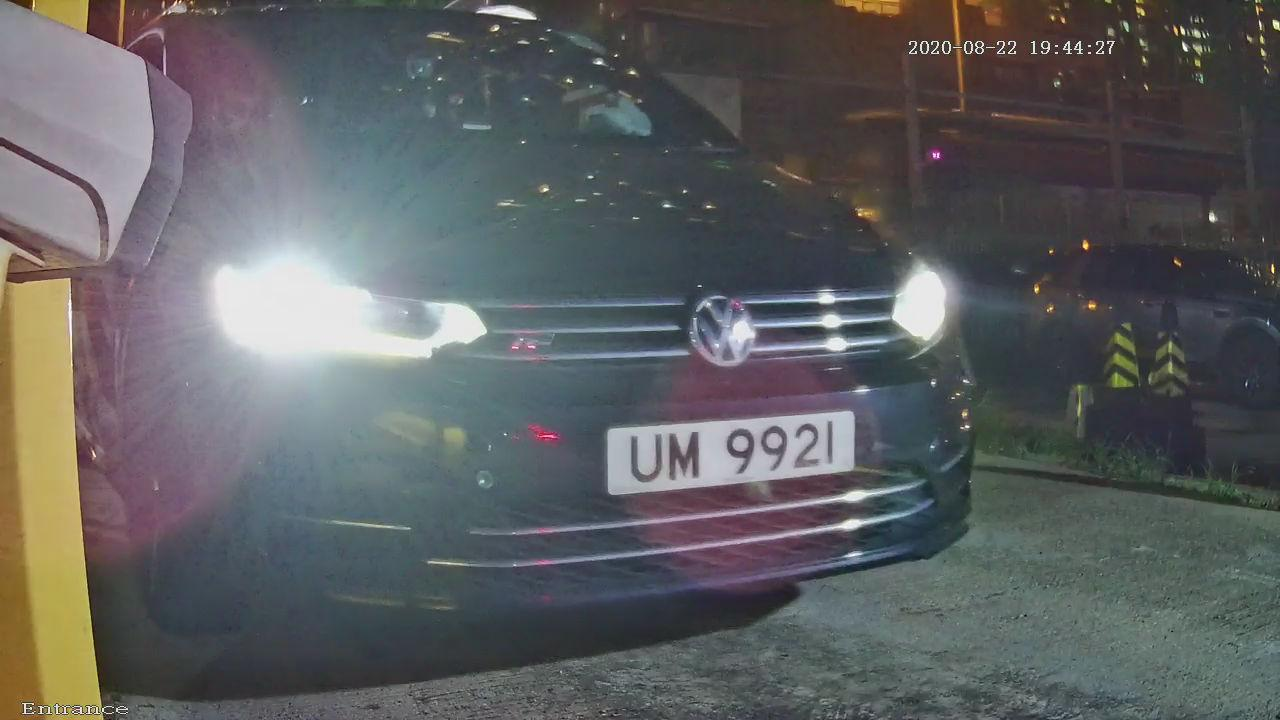Car: (29, 10, 1029, 666)
License Plate: (529, 372, 947, 557)
